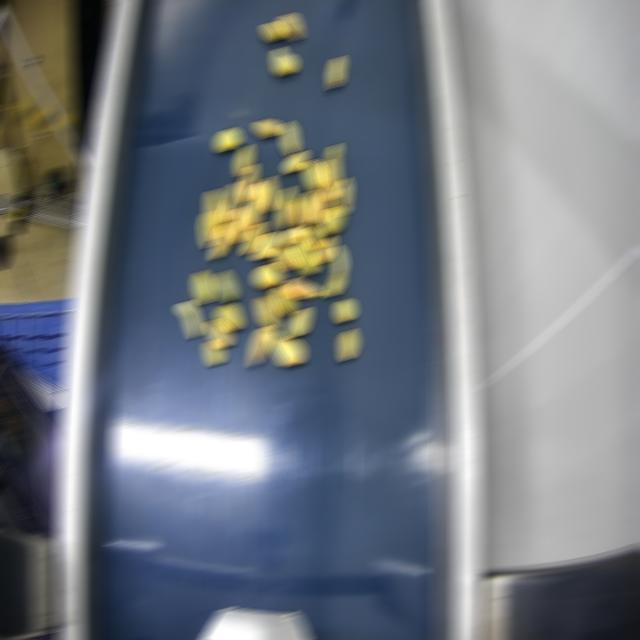Baby Potato: (267, 331, 304, 365), (243, 181, 266, 229), (290, 238, 319, 275), (177, 300, 200, 337), (328, 246, 345, 296), (206, 189, 223, 239), (211, 223, 234, 259), (284, 277, 323, 298), (255, 295, 278, 330), (220, 181, 239, 222), (214, 269, 237, 302), (251, 233, 280, 259), (277, 185, 294, 229), (242, 223, 265, 255), (238, 165, 257, 203), (251, 328, 270, 366), (272, 284, 295, 315), (215, 305, 242, 331), (208, 319, 231, 348), (253, 264, 282, 287), (320, 160, 337, 199), (303, 160, 324, 191), (229, 206, 246, 243), (301, 189, 318, 226), (273, 247, 298, 271), (273, 49, 296, 75), (327, 143, 340, 189), (194, 272, 213, 303), (322, 208, 343, 236), (289, 309, 310, 337), (215, 128, 240, 151), (262, 175, 277, 213), (335, 178, 350, 215), (280, 15, 301, 41), (280, 225, 307, 245), (315, 189, 330, 225), (339, 329, 356, 360), (315, 236, 334, 263), (282, 121, 297, 155), (329, 55, 344, 88), (259, 21, 285, 40), (235, 146, 252, 175), (303, 225, 322, 250), (284, 153, 307, 173), (289, 198, 306, 225), (204, 341, 223, 365), (335, 300, 354, 322), (254, 121, 279, 137), (202, 212, 213, 247)
